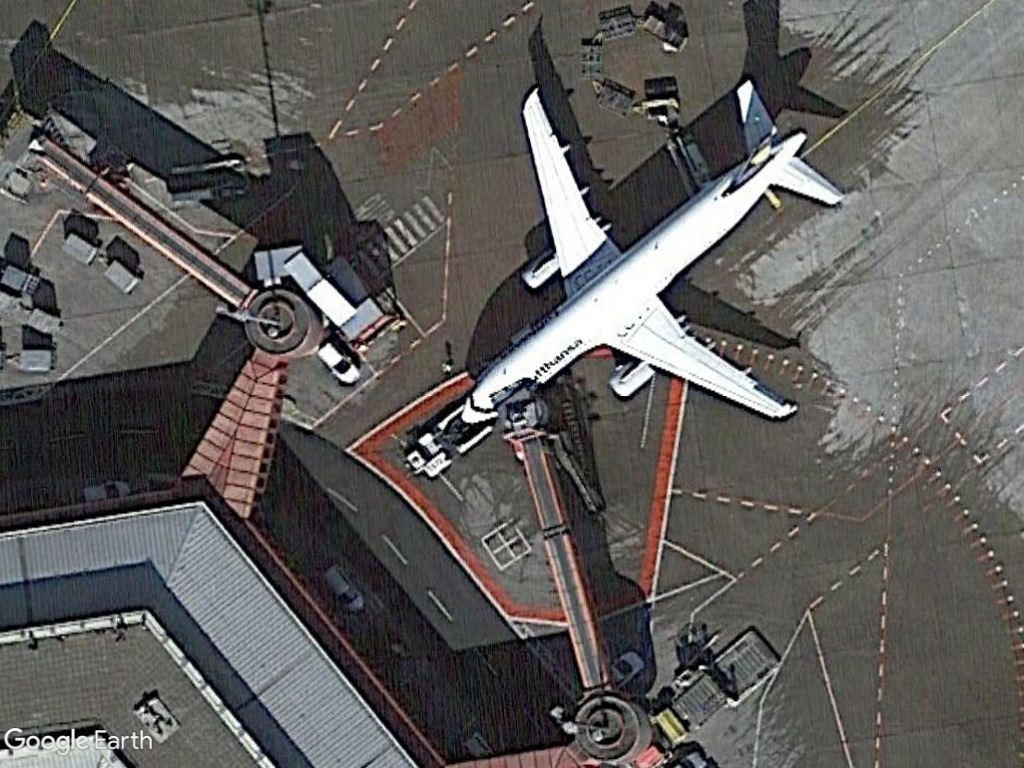airliner: (432, 78, 859, 432)
van: (312, 338, 361, 388)
